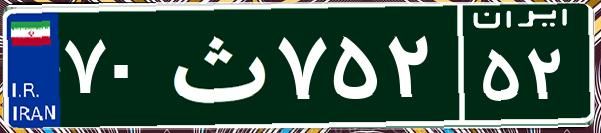0: (110, 28, 158, 105)
2: (385, 28, 445, 110), (525, 38, 570, 115)
5: (330, 28, 385, 110), (475, 38, 525, 113)
7: (273, 28, 330, 110), (57, 26, 110, 107)
ث: (158, 15, 273, 115)
